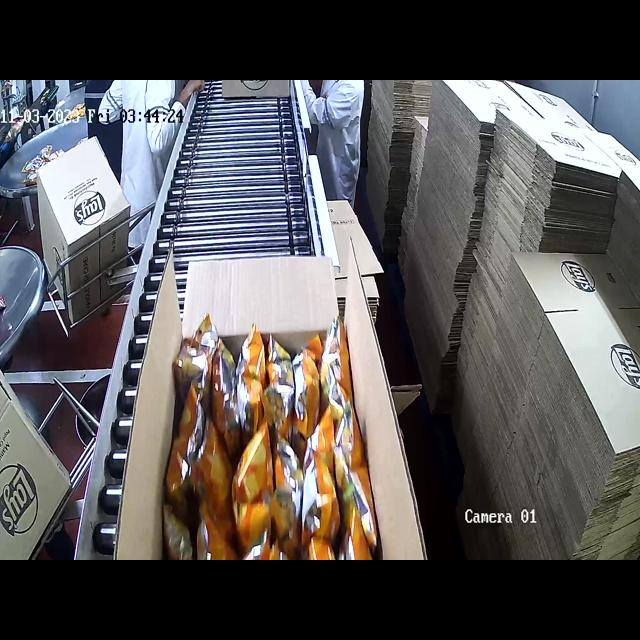cheese: (176, 323, 363, 560)
